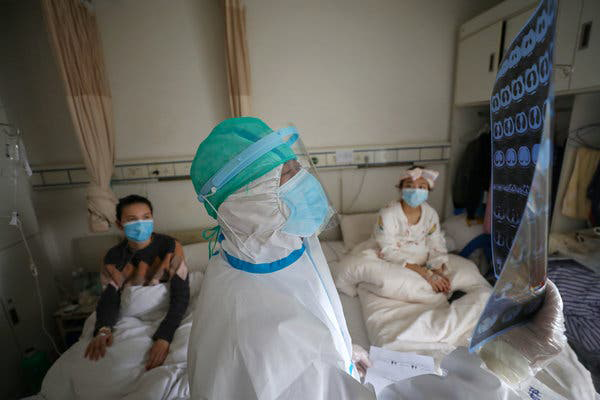Coverall: (188, 243, 495, 398)
Face_Shield: (203, 130, 343, 238)
Gloves: (480, 285, 568, 386), (350, 345, 371, 379)
with_mask: (271, 159, 330, 236), (124, 213, 155, 239), (401, 181, 428, 205)
